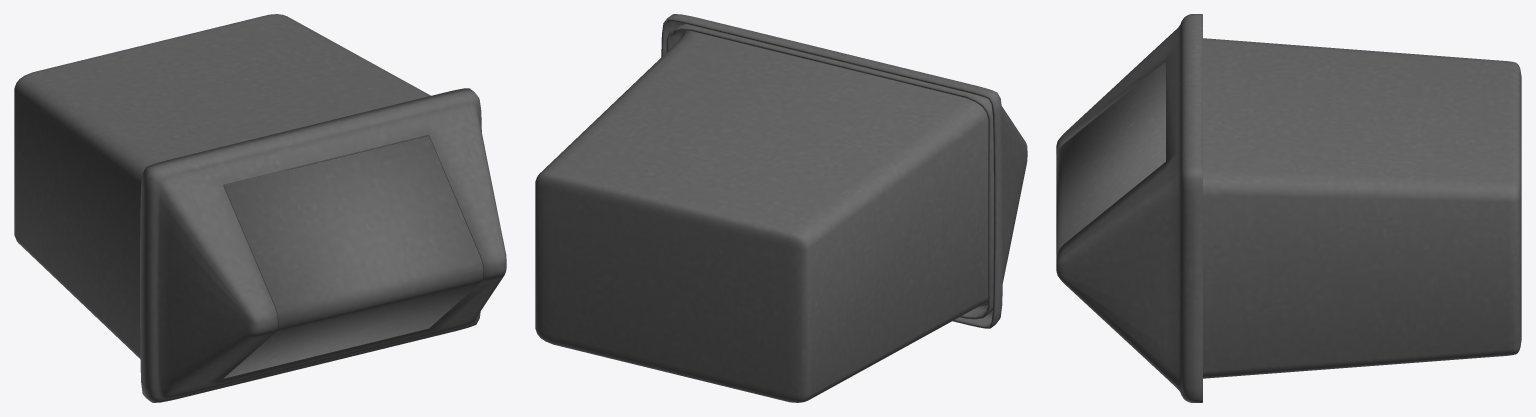
The model's file is 10896_Trash_can_v3_LOD3.obj.
3 renders of one model, left to right at view 1: azimuth 30°, elevation 25°; view 2: azimuth 150°, elevation 25°; view 3: azimuth 270°, elevation 25°, orthographic.
Parts seen in each view (by area): view 1: default1; view 2: default1; view 3: default1.
Boxes of the visible parts, bbox=[...] form: default1: bbox=[14, 14, 506, 402]; default1: bbox=[535, 14, 1027, 402]; default1: bbox=[1056, 14, 1521, 402].
Bounding box in the file's own units: 0.1687 × 0.1128 × 0.2027.
1 material, 1 textured.
